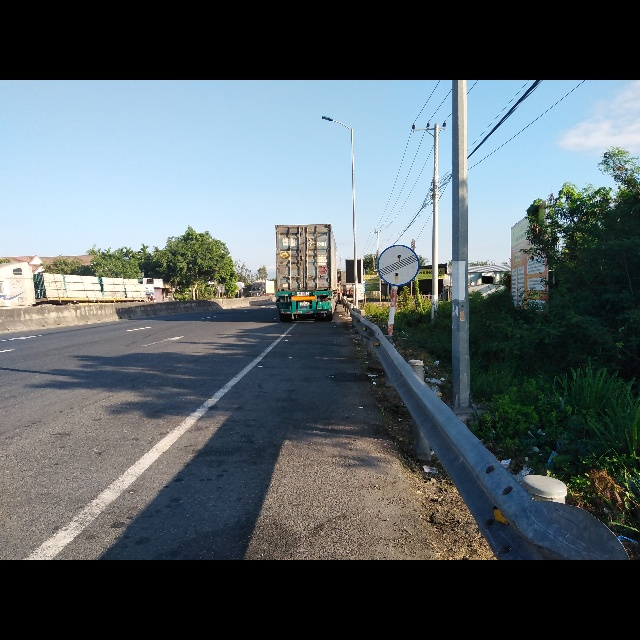Hết tất cả các lệnh cấm: (377, 244, 420, 286)
